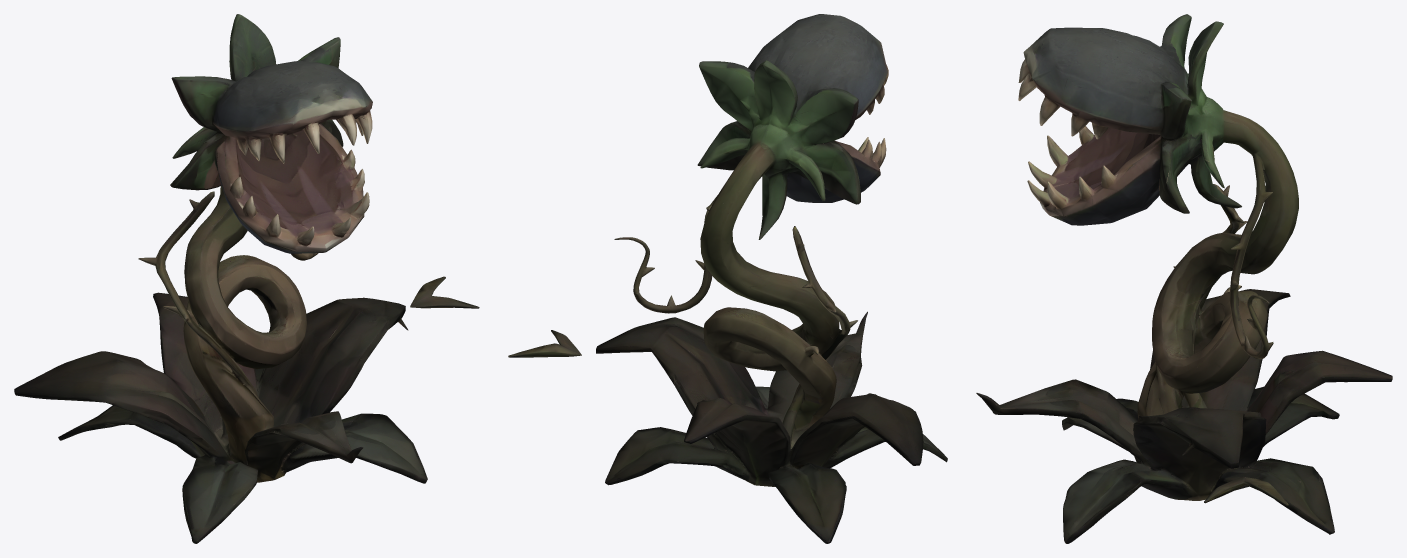
The model's file is mesh_snapvine_a.glb.
3 renders of one model, left to right at view 1: azimuth 30°, elevation 25°; view 2: azimuth 150°, elevation 25°; view 3: azimuth 270°, elevation 25°, orthographic. The views are drawn at different scales.
Parts seen in each view (by area): view 1: Mesh_0; view 2: Mesh_0; view 3: Mesh_0.
Boxes of the visible parts, x1,y1,x2,y2 form: Mesh_0: (14,14,479,543); Mesh_0: (508,14,947,543); Mesh_0: (976,14,1392,543).
Size of the model in its own units: 1.9 by 1.87 by 1.51.
1 material, 1 textured.
